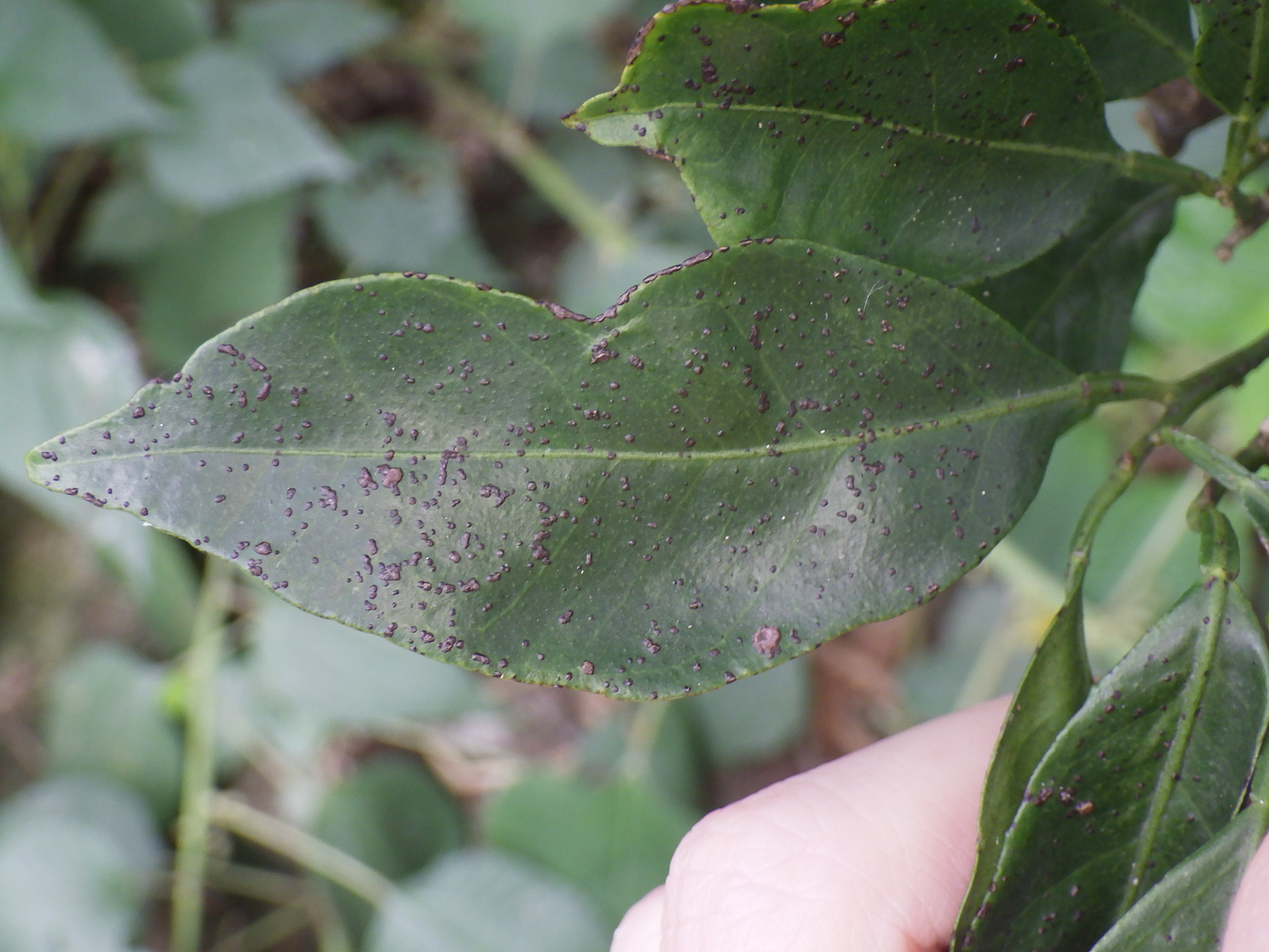Black_Spot: (29, 239, 1111, 699)
